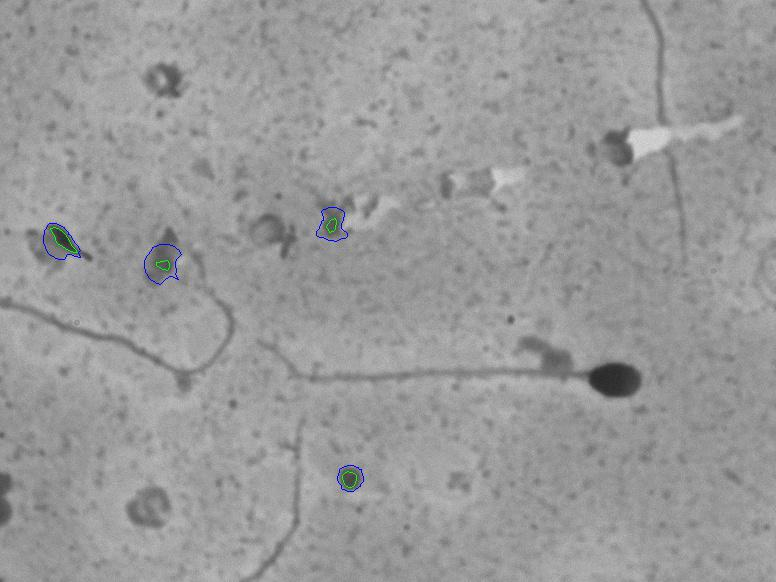Abnormal: (245, 270, 681, 433)
